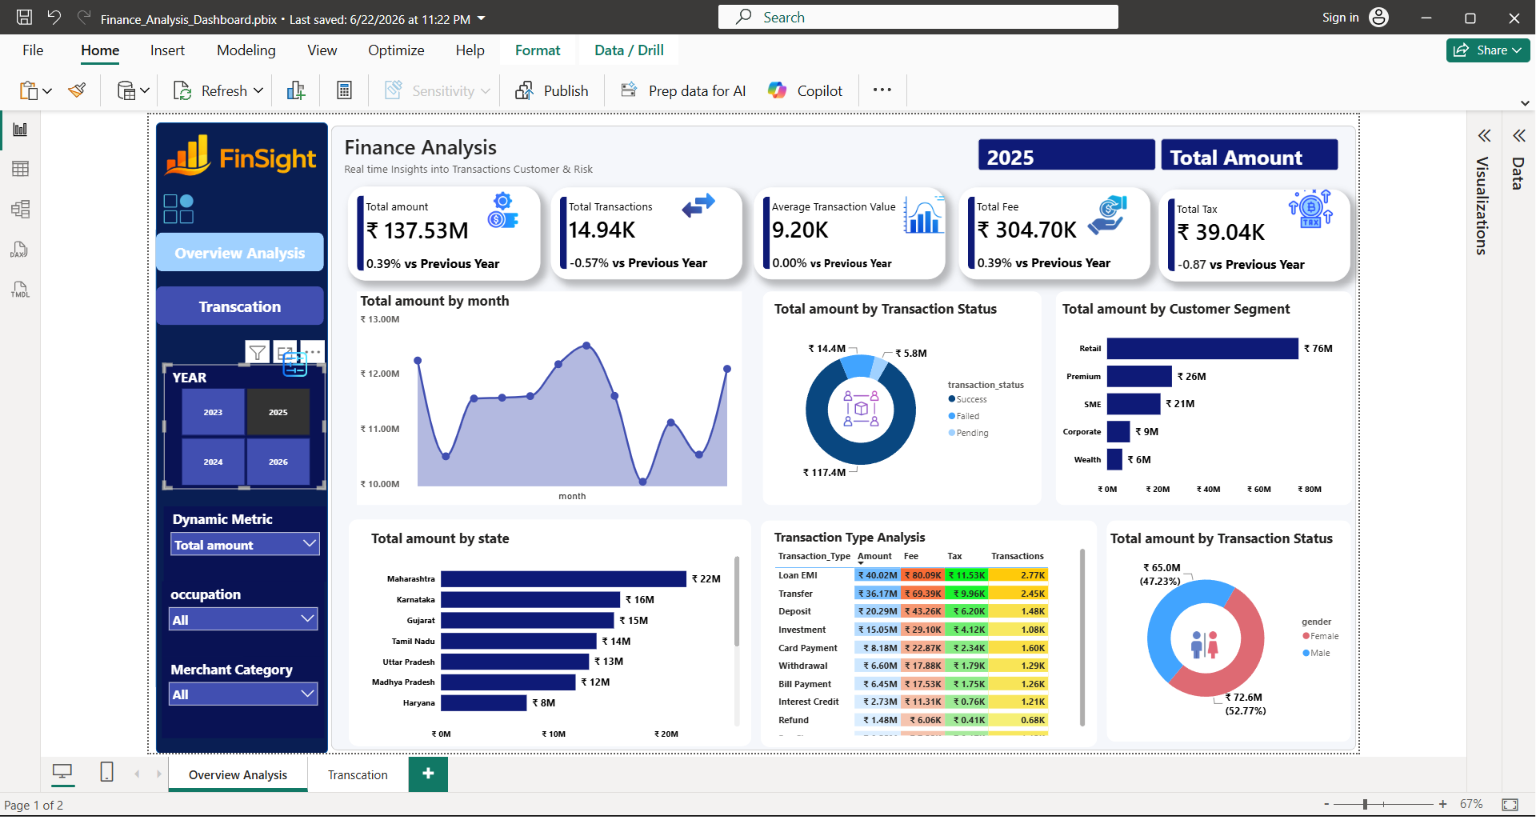

Layout of this report page (visuals, bound fields, positions):
{"tool":"powerbi","page":{"name":"Overview Analysis","canvas":[1800,950],"ordinal":0},"visuals":[{"type":"shape","box":[266.2,11.3,1534.4,939],"z":0},{"type":"shape","box":[10,11.2,256.2,938.8],"z":1000},{"type":"image","box":[13.8,0,250,122.5],"z":2000},{"type":"cardVisual","fields":{"Data":["customers.Dashboard Title"]},"box":[285,11.7,430,93.3],"z":3000},{"type":"cardVisual","fields":{"Data":["finance_transactions.Total amount"]},"box":[296.7,106.7,286.7,140],"z":4000},{"type":"cardVisual","fields":{"Data":["finance_transactions.Total Transactions"]},"box":[598.3,108.3,285,136.7],"z":5000},{"type":"slicer","fields":{"Values":["Calender Tabel.year"]},"box":[21.7,371.7,241.7,186.7],"z":6000},{"type":"cardVisual","fields":{"Data":["finance_transactions.Average Transaction Value"]},"box":[900,108.3,285,136.7],"z":7000},{"type":"cardVisual","fields":{"Data":["finance_transactions.Total Fee"]},"box":[1205,108.3,285,136.7],"z":8000},{"type":"cardVisual","fields":{"Data":["finance_transactions.Total Tax"]},"box":[1501.7,111.7,285,136.7],"z":9000},{"type":"image","box":[500,108.3,53.3,66.7],"z":10000},{"type":"image","box":[780,108.3,76.7,53.3],"z":11000},{"type":"image","box":[1381.7,118.3,86.7,61.7],"z":12000},{"type":"image","box":[1121.7,106.7,63.3,83.3],"z":13000},{"type":"image","box":[1686.7,101.7,83.3,78.3],"z":14000},{"type":"shape","box":[1348.9,263,440.5,317.9],"z":15000},{"type":"slicer","fields":{"Values":["Dynamic Metric.Dynamic Metric"]},"box":[21.7,583.3,241.7,111.7],"z":16000},{"type":"areaChart","fields":{"Y":["finance_transactions.Total amount"],"Category":["Calender Tabel.month"]},"box":[309.8,263,572.8,317.9],"z":17000},{"type":"cardVisual","fields":{"Data":["Calender Tabel.Select year","Min(Dynamic Metric.Dynamic Title)"]},"box":[1216.7,20,570,81.7],"z":18000},{"type":"shape","box":[913.2,263,414.7,317.9],"z":19000},{"type":"donutChart","title":"Total amount by Transaction Status","fields":{"Y":["finance_transactions.Total amount"],"Category":["finance_transactions.transaction_status"]},"box":[925,275,393.3,300],"z":20000},{"type":"barChart","title":"Total amount by Customer Segment","fields":{"Y":["finance_transactions.Total amount"],"Category":["customers.customer_segment"]},"box":[1353.3,275,431.7,300],"z":21000},{"type":"shape","box":[296.9,601.8,598.6,337.2],"z":22000},{"type":"barChart","fields":{"Y":["finance_transactions.Total amount"],"Category":["customers.state"]},"box":[325,615,558.3,323.3],"z":23000},{"type":"shape","box":[910,603.4,500.2,337.2],"z":24000},{"type":"tableEx","title":"Transaction Type Analysis","fields":{"Values":["finance_transactions.transaction_type","finance_transactions.Total amount","finance_transactions.Total Fee","finance_transactions.Total Tax","finance_transactions.Total Transactions"]},"box":[925,615,473.3,313.3],"z":25000},{"type":"shape","box":[1424.7,603.4,363,329.1],"z":26000},{"type":"donutChart","title":"Total amount by Transaction Status","fields":{"Y":["finance_transactions.Total amount"],"Category":["customers.gender"]},"box":[1425,615,360,298.3],"z":27000},{"type":"image","box":[1534,766,74,46],"z":28000},{"type":"image","box":[998.3,408.3,123.3,56.7],"z":29000},{"type":"slicer","fields":{"Values":["customers.occupation"]},"box":[20,695,241.7,111.7],"z":30000},{"type":"slicer","fields":{"Values":["finance_transactions.merchant_category"]},"box":[20,806.7,241.7,121.7],"z":31000},{"type":"pageNavigator","box":[10,175,250,138.3],"z":32000},{"type":"image","box":[191.7,351.7,51.7,41.7],"z":35500},{"type":"image","box":[13.3,118.3,61.7,43.3],"z":36000}]}

Visuals, with their boxes on the page's 1800x950 design canvas (x1, y1, x2, y2). These are canvas units, not pixel positions in the 1536x817 screenshot, which may show the page scaled, cropped or inside an application window:
shape: detection(266, 11, 1801, 950)
shape: detection(10, 11, 266, 950)
image: detection(14, 0, 264, 122)
cardVisual - customers.Dashboard Title: detection(285, 12, 715, 105)
cardVisual - finance_transactions.Total amount: detection(297, 107, 583, 247)
cardVisual - finance_transactions.Total Transactions: detection(598, 108, 883, 245)
slicer - Calender Tabel.year: detection(22, 372, 263, 558)
cardVisual - finance_transactions.Average Transaction Value: detection(900, 108, 1185, 245)
cardVisual - finance_transactions.Total Fee: detection(1205, 108, 1490, 245)
cardVisual - finance_transactions.Total Tax: detection(1502, 112, 1787, 248)
image: detection(500, 108, 553, 175)
image: detection(780, 108, 857, 162)
image: detection(1382, 118, 1468, 180)
image: detection(1122, 107, 1185, 190)
image: detection(1687, 102, 1770, 180)
shape: detection(1349, 263, 1789, 581)
slicer - Dynamic Metric.Dynamic Metric: detection(22, 583, 263, 695)
areaChart - finance_transactions.Total amount x Calender Tabel.month: detection(310, 263, 883, 581)
cardVisual - Calender Tabel.Select year x Min(Dynamic Metric.Dynamic Title): detection(1217, 20, 1787, 102)
shape: detection(913, 263, 1328, 581)
"Total amount by Transaction Status" donutChart: detection(925, 275, 1318, 575)
"Total amount by Customer Segment" barChart: detection(1353, 275, 1785, 575)
shape: detection(297, 602, 896, 939)
barChart - finance_transactions.Total amount x customers.state: detection(325, 615, 883, 938)
shape: detection(910, 603, 1410, 941)
"Transaction Type Analysis" tableEx: detection(925, 615, 1398, 928)
shape: detection(1425, 603, 1788, 932)
"Total amount by Transaction Status" donutChart: detection(1425, 615, 1785, 913)
image: detection(1534, 766, 1608, 812)
image: detection(998, 408, 1122, 465)
slicer - customers.occupation: detection(20, 695, 262, 807)
slicer - finance_transactions.merchant_category: detection(20, 807, 262, 928)
pageNavigator: detection(10, 175, 260, 313)
image: detection(192, 352, 243, 393)
image: detection(13, 118, 75, 162)
